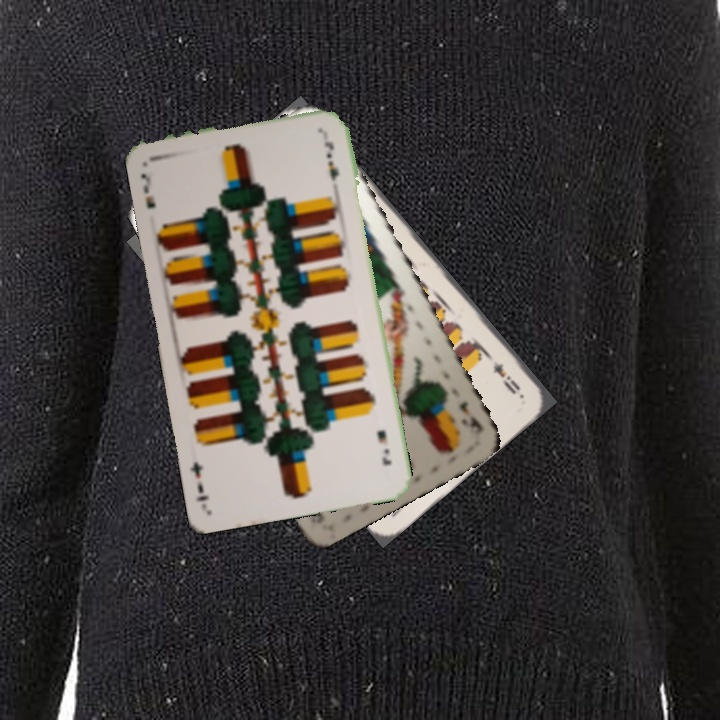E7: (372, 425, 394, 468), (136, 168, 158, 211)
E9: (488, 357, 523, 397)
EK: (455, 397, 486, 436)
